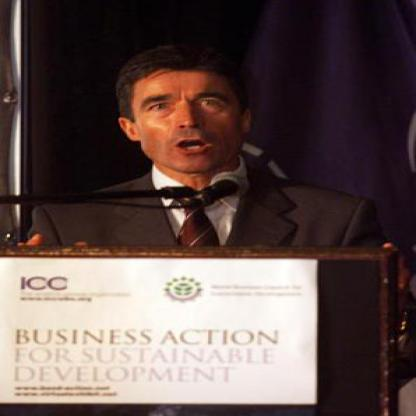face: (130, 51, 248, 175)
